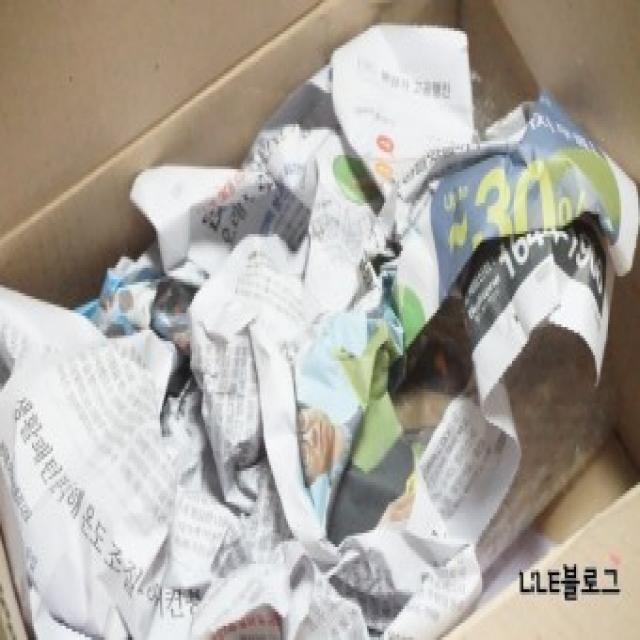reuseable_paper: (0, 36, 572, 640)
